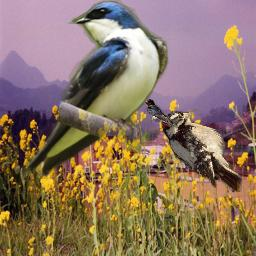Swallow: (23, 0, 169, 179), (144, 99, 179, 129)
Woodpecker: (161, 109, 242, 192)
